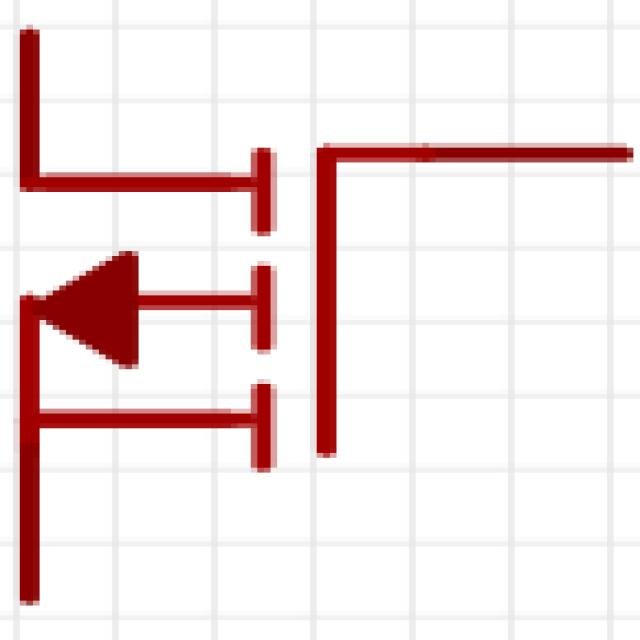pmos: (0, 38, 640, 564)
